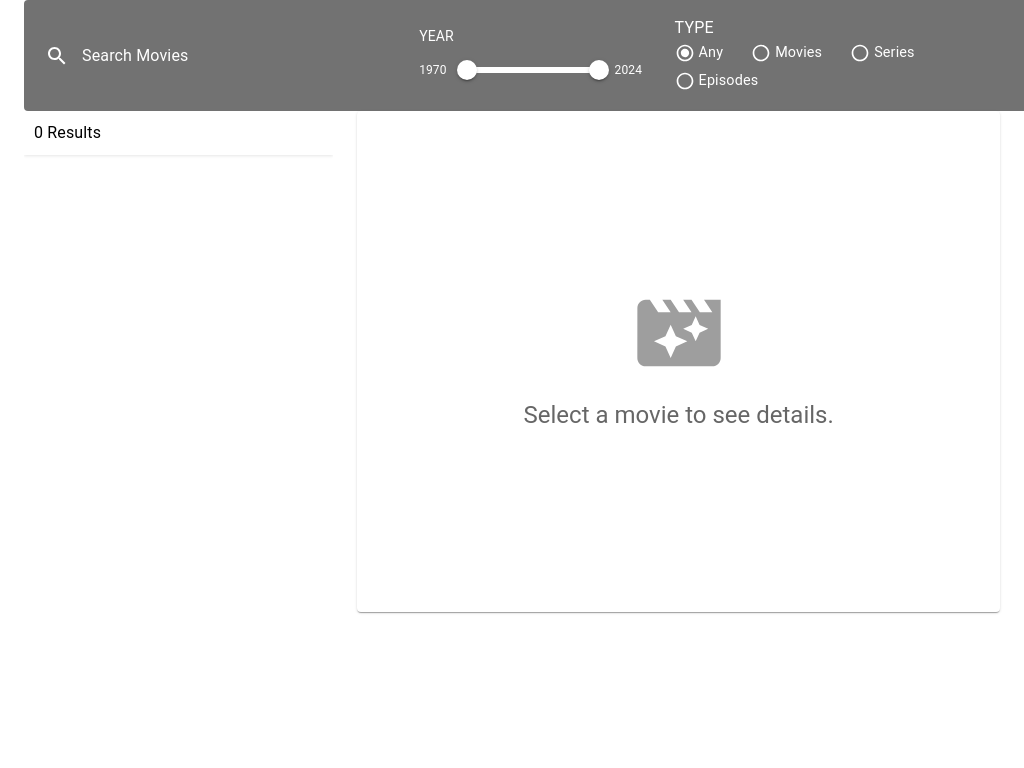
Scenario: App Component › performs movie search
# Simulate user input in the search bar
In the field with placeholder "Search Movies": (239, 56) left=82, top=24, right=395, bottom=87, type "Test"
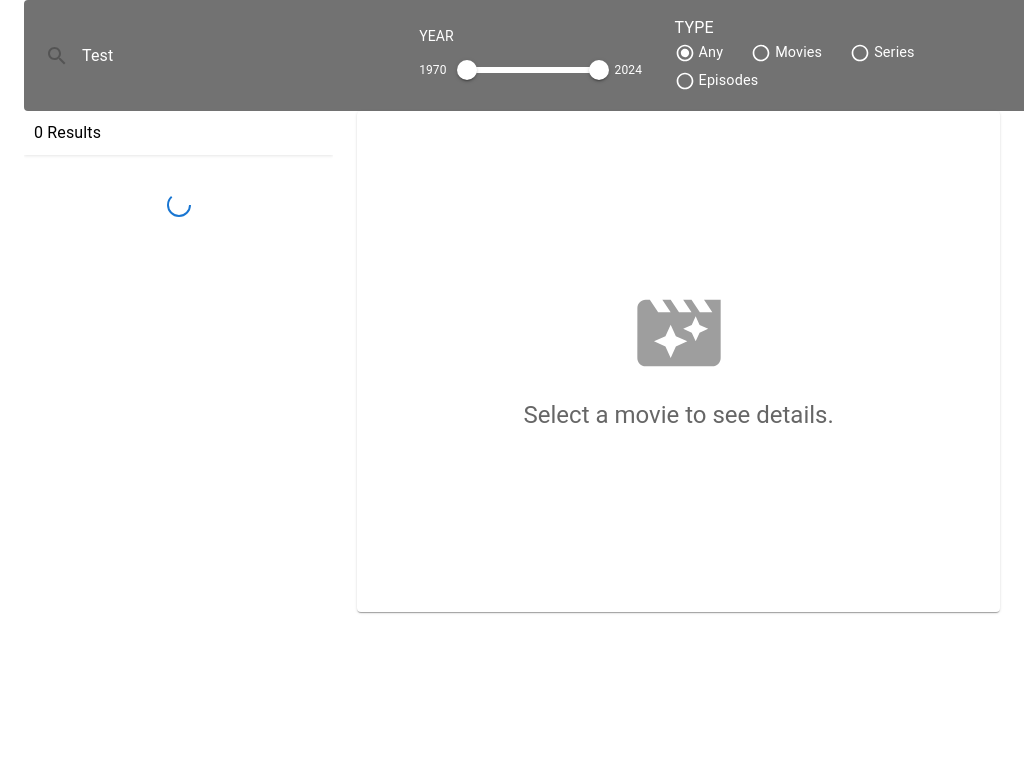
# Simulate clicking the search button
Click the button named "Search movies": (57, 56) left=40, top=38, right=74, bottom=72
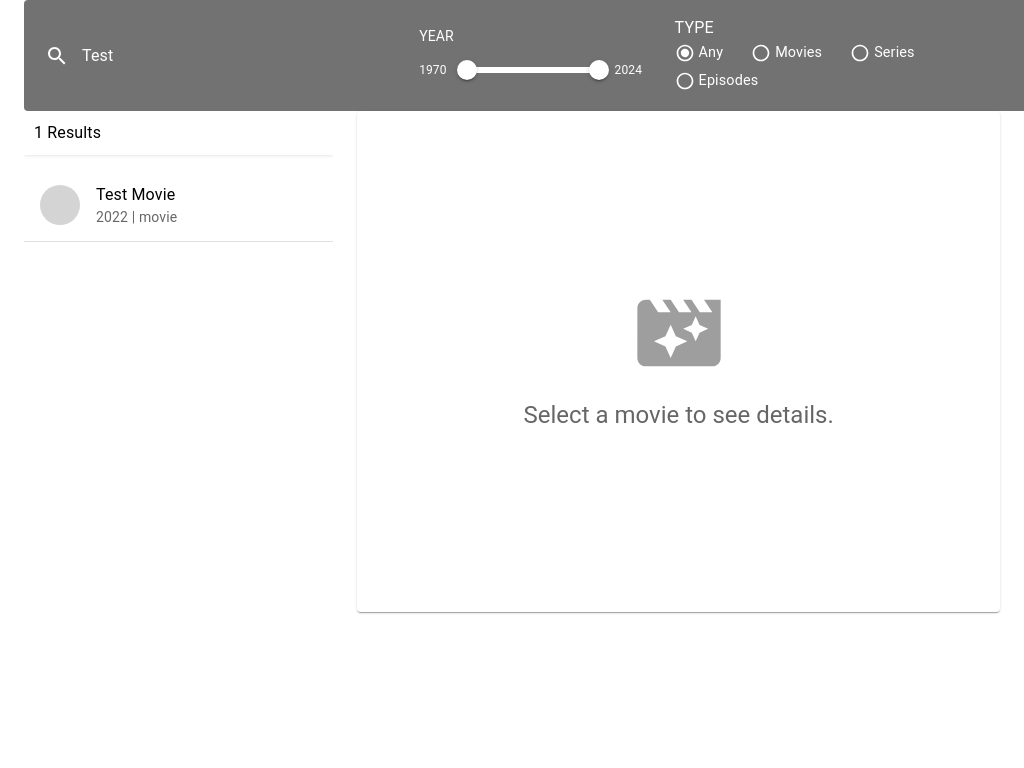
Now the text "Test Movie" is shown, box left=96, top=185, right=175, bottom=204
